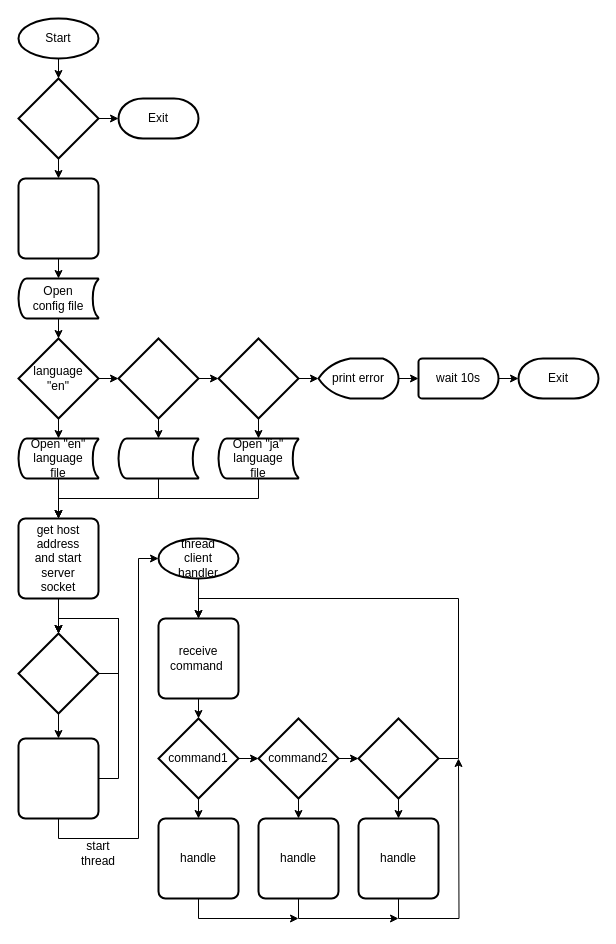
Image size: 616x944. Some labels were removed from this diagram. Here are the shapes that lost their labels. From the top down, the centre of each, then its label:
point (58, 118): main module
point (58, 218): Instantiate "Application" class
point (158, 378): language "da"
point (258, 378): language "ja"
point (158, 458): Open "da" language file
point (58, 673): space for client?
point (58, 778): Accept client and start handler in new thread
point (398, 758): command3
